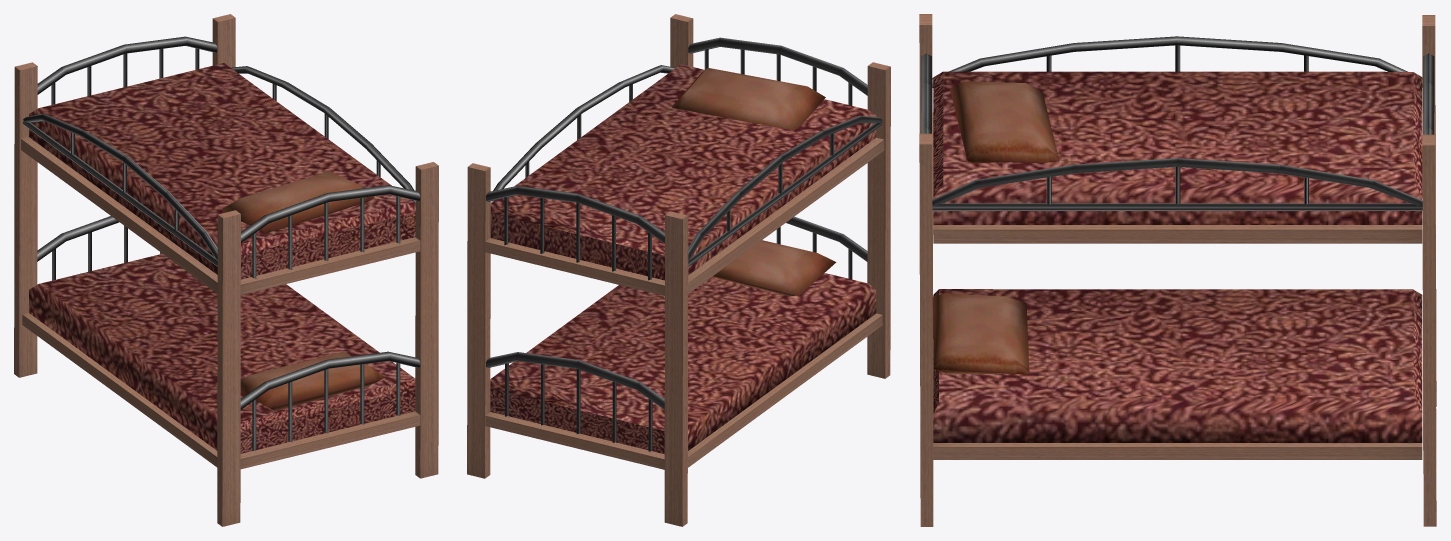
File: bunkbedmetl.fbx
3 views of the same model, side by side, from view 1: azimuth 30°, elevation 25°; view 2: azimuth 150°, elevation 25°; view 3: azimuth 270°, elevation 25° (orthographic). The views are drawn at different scales.
Parts seen in each view (by area): view 1: mesh_2, mesh_0, mesh_5, mesh_4, mesh_3, mesh_1; view 2: mesh_2, mesh_0, mesh_5, mesh_4, mesh_3, mesh_1; view 3: mesh_0, mesh_2, mesh_5, mesh_4, mesh_1, mesh_3.
Part boxes in pixels (x1,y1,x2,y2): mesh_2: (29,63,415,279); mesh_0: (29,253,415,453); mesh_5: (14,14,438,526); mesh_4: (23,36,420,450); mesh_3: (221,171,374,233); mesh_1: (240,351,384,410); mesh_2: (490,64,876,280); mesh_0: (490,273,876,454); mesh_5: (467,14,890,526); mesh_4: (486,37,882,451); mesh_3: (671,68,825,130); mesh_1: (712,240,836,295); mesh_0: (933,289,1422,442); mesh_2: (933,71,1422,224); mesh_5: (919,14,1436,526); mesh_4: (921,36,1434,210); mesh_1: (932,293,1029,374); mesh_3: (950,81,1059,163).
Bounding box in the file's own units: 120 × 164 × 201.
Materials: 1 (1 with a texture image).
